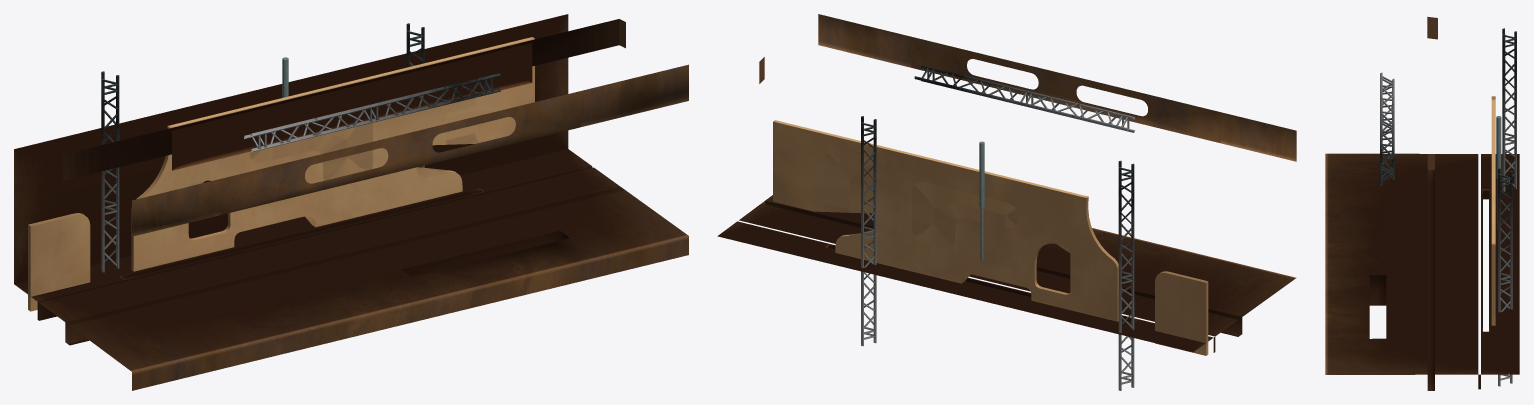
File: Empty_Scene_VF.fbx
The picture shows the model from 3 angles, left to right: view 1: azimuth 30°, elevation 25°; view 2: azimuth 150°, elevation 25°; view 3: azimuth 270°, elevation 25°; orthographic projection. The views are drawn at different scales.
Parts seen in each view (by area): view 1: Scene, Cube.002, Cube.015, Cube.008; view 2: Cube.002, Scene, Cube.008, Cube.015, Cube.001, Cylinder.012; view 3: Scene, Cube.008, Cube.001, Cube.015, Cube.002, Cylinder.012.
Part boxes in pixels (x1,y1,x2,y2): Scene: [14, 14, 688, 390]; Cube.002: [28, 37, 534, 311]; Cube.015: [244, 73, 500, 151]; Cube.008: [101, 71, 119, 272]; Cube.002: [773, 120, 1208, 355]; Scene: [717, 14, 1296, 352]; Cube.008: [1118, 160, 1134, 390]; Cube.015: [914, 65, 1135, 132]; Cube.001: [861, 116, 876, 346]; Cylinder.012: [979, 141, 984, 260]; Scene: [1325, 16, 1519, 390]; Cube.008: [1502, 28, 1516, 191]; Cube.001: [1498, 168, 1512, 386]; Cube.015: [1380, 72, 1394, 185]; Cube.002: [1491, 96, 1495, 325]; Cylinder.012: [1496, 116, 1501, 228].
Size of the model in its own units: 1337 by 649 by 495.
